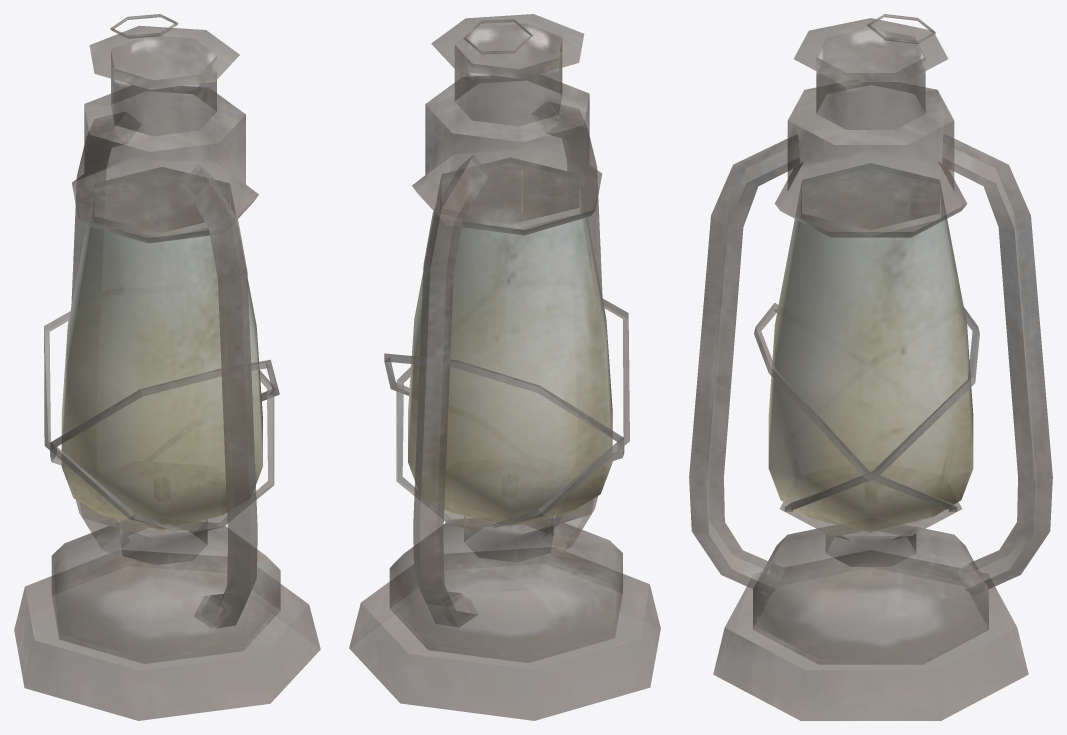
File: Farol.glb
3 views of the same model, side by side, from view 1: azimuth 30°, elevation 25°; view 2: azimuth 150°, elevation 25°; view 3: azimuth 270°, elevation 25° (orthographic).
Parts seen in each view (by area): view 1: Farol; view 2: Farol; view 3: Farol.
Boxes of the visible parts, x1,y1,x2,y2 form: Farol: (14, 14, 320, 720); Farol: (349, 14, 660, 720); Farol: (689, 14, 1052, 720).
Size of the model in its own units: 0.262 by 0.5959 by 0.3098.
Materials: 1 (1 with a texture image).
